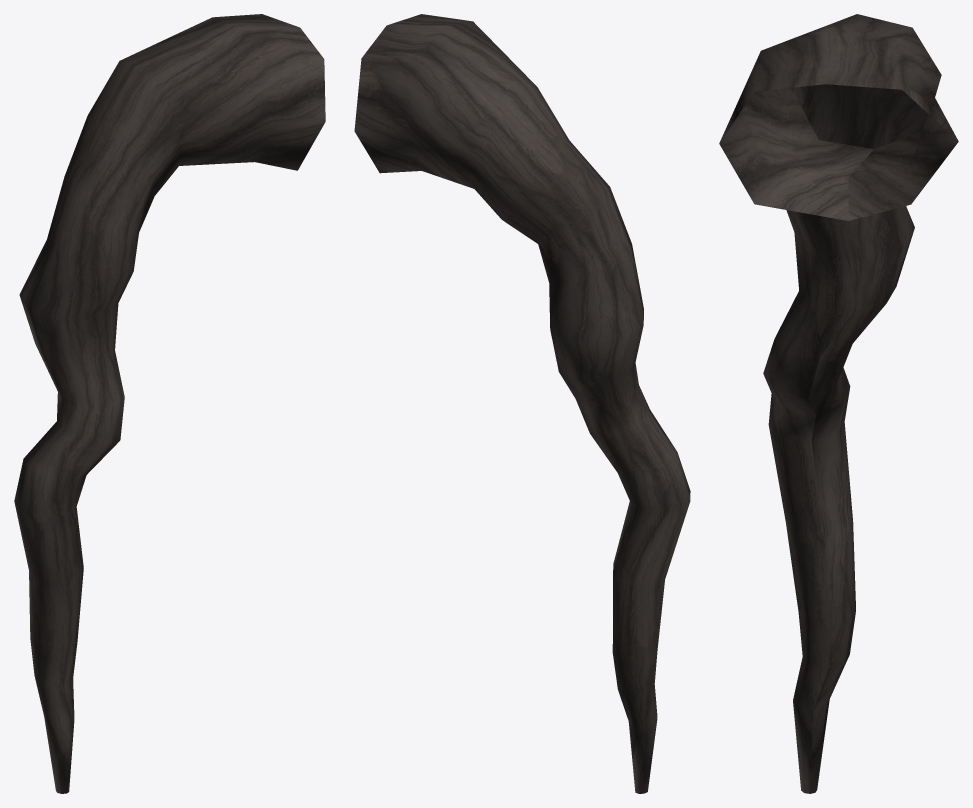
File: Wurzel_03.fbx
3 renders of one model, left to right at view 1: azimuth 30°, elevation 25°; view 2: azimuth 150°, elevation 25°; view 3: azimuth 270°, elevation 25°, orthographic. The views are drawn at different scales.
Parts seen in each view (by area): view 1: Wurzel_03_LOD0; view 2: Wurzel_03_LOD0; view 3: Wurzel_03_LOD0.
Boxes of the visible parts, <box> form: Wurzel_03_LOD0: <box>14,14,325,793</box>; Wurzel_03_LOD0: <box>354,14,690,793</box>; Wurzel_03_LOD0: <box>719,14,958,793</box>.
Size of the model in its own units: 6.45 by 15.19 by 3.8.
